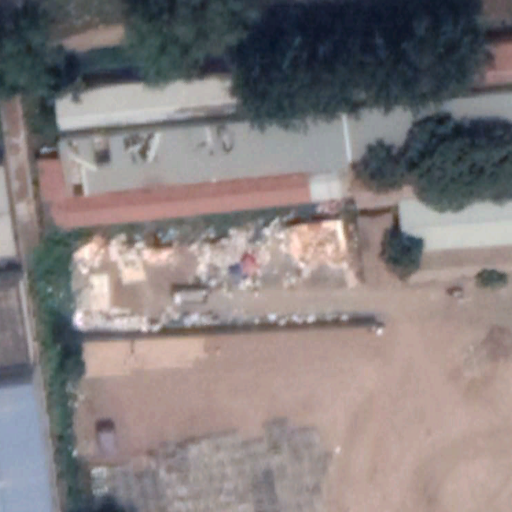msw: (67, 215, 354, 334)
